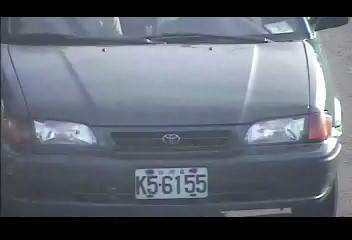plate: (132, 167, 209, 200)
